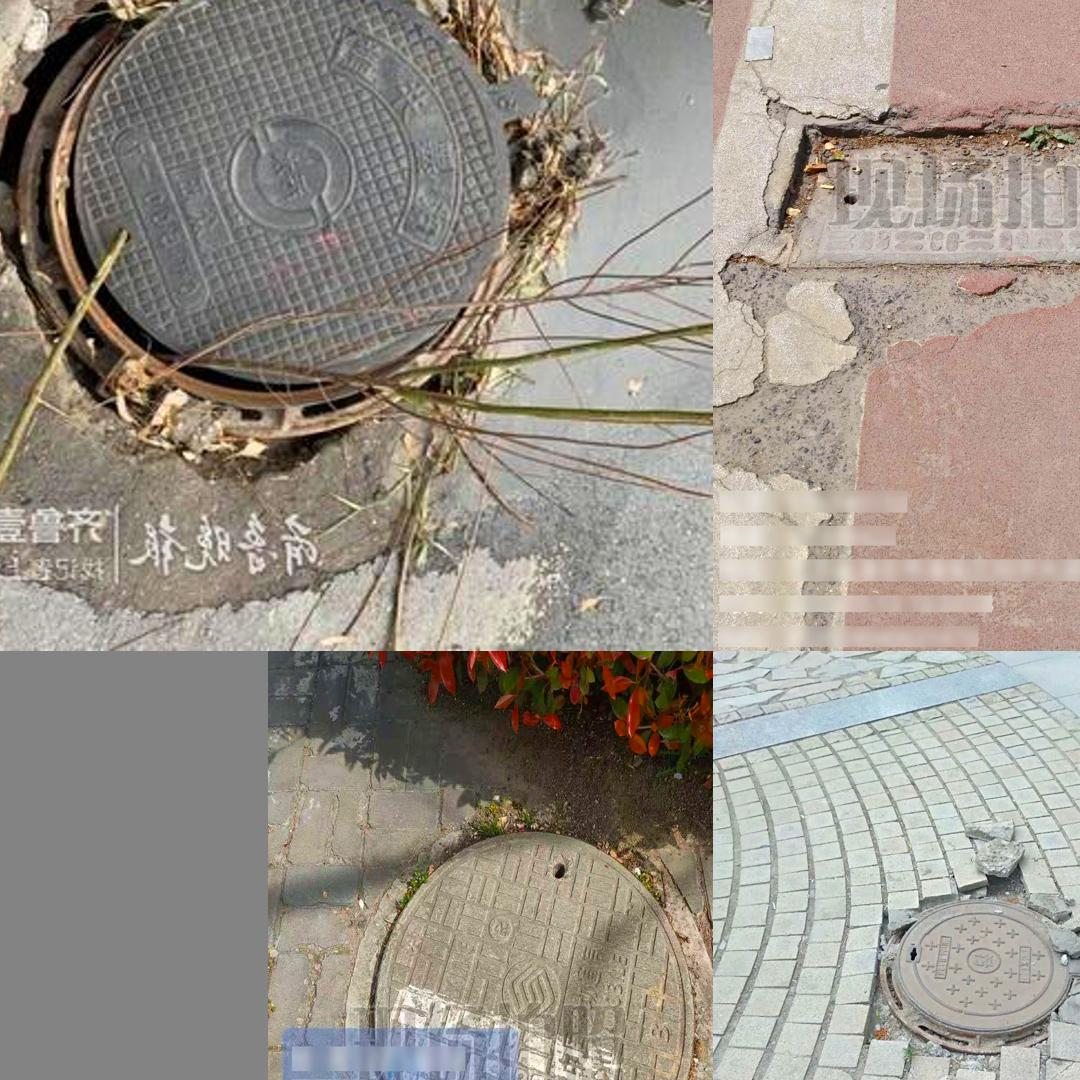circle: (0, 0, 628, 596), (363, 811, 705, 1080), (843, 854, 1080, 1080), (759, 115, 1080, 277)
